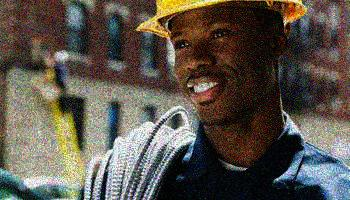helmet: (136, 1, 310, 124)
